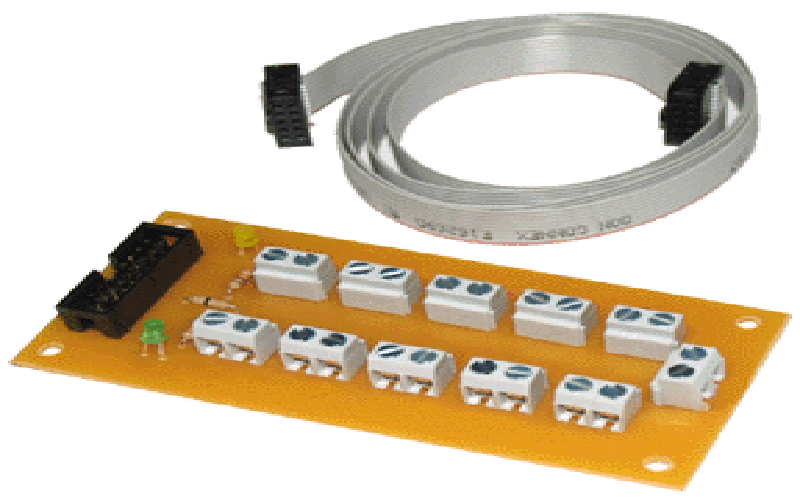Switches: (21, 15, 777, 470)
